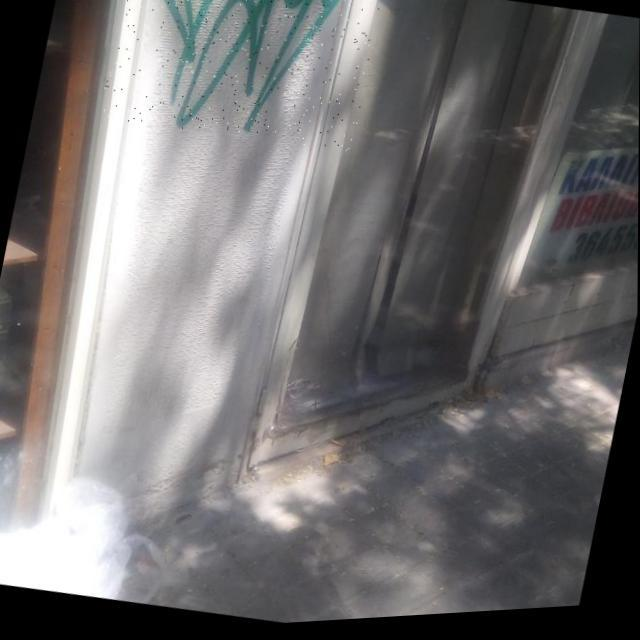-: (98, 0, 385, 167)
